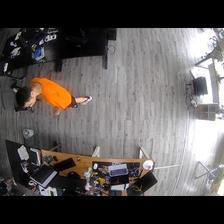normal: (17, 77, 93, 116)
